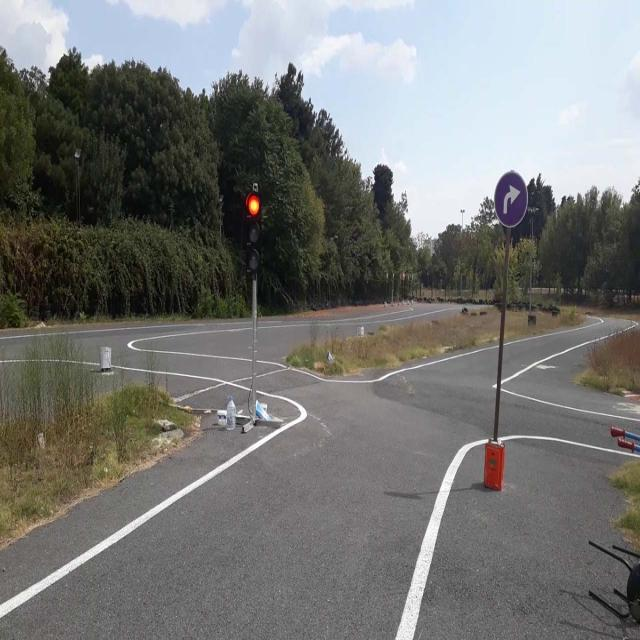kirmizi: (245, 192, 261, 273)
sag: (495, 173, 527, 226)
